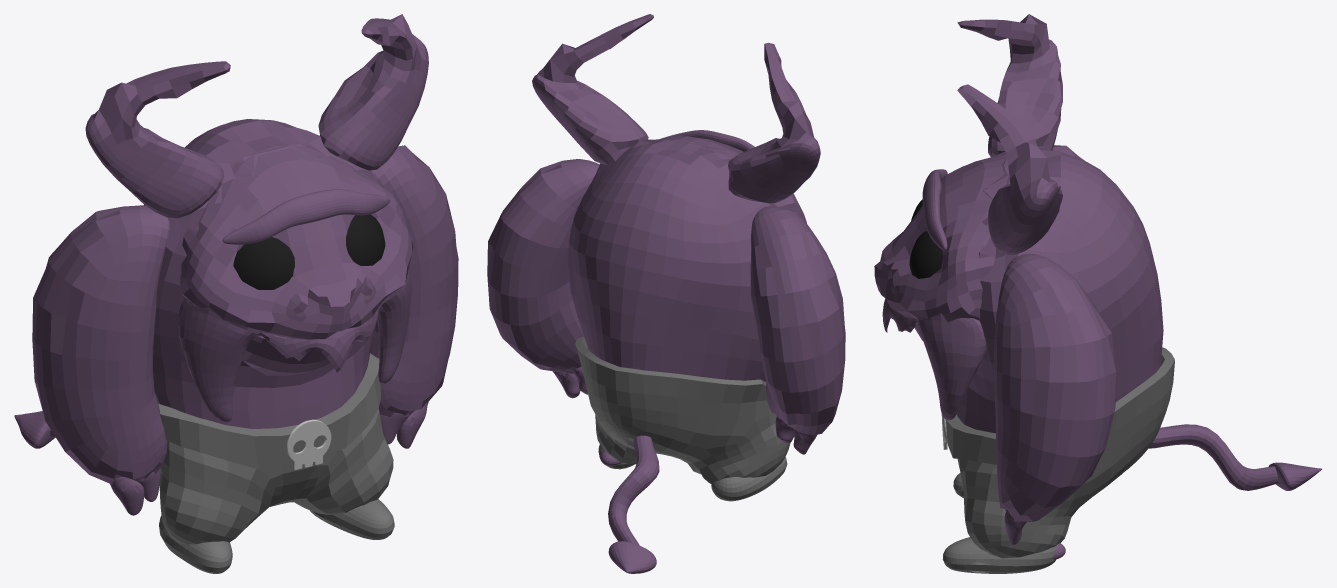
Rendered from Eduardo.gltf.
3 views of the same model, side by side, from view 1: azimuth 30°, elevation 25°; view 2: azimuth 150°, elevation 25°; view 3: azimuth 270°, elevation 25° (orthographic). The views are drawn at different scales.
Visible parts, largest first — view 1: pasted__Eduardo1 group Eduardo:polySurface7, Eduardo:Eduardo:polySurface3 pasted__Eduardo1 group, pasted__Eduardo1 group Eduardo:polySurface1, pasted__Eduardo1 group Eduardo:Calavera; view 2: pasted__Eduardo1 group Eduardo:polySurface7, Eduardo:Eduardo:polySurface3 pasted__Eduardo1 group; view 3: pasted__Eduardo1 group Eduardo:polySurface7, Eduardo:Eduardo:polySurface3 pasted__Eduardo1 group, pasted__Eduardo1 group Eduardo:polySurface1.
Part boxes in pixels (box(x1,y1,x2,y2)): pasted__Eduardo1 group Eduardo:polySurface7: box(14, 14, 458, 515); Eduardo:Eduardo:polySurface3 pasted__Eduardo1 group: box(158, 353, 394, 573); pasted__Eduardo1 group Eduardo:polySurface1: box(233, 214, 385, 289); pasted__Eduardo1 group Eduardo:Calavera: box(286, 419, 331, 469); pasted__Eduardo1 group Eduardo:polySurface7: box(487, 14, 845, 573); Eduardo:Eduardo:polySurface3 pasted__Eduardo1 group: box(575, 336, 790, 501); pasted__Eduardo1 group Eduardo:polySurface7: box(874, 14, 1321, 559); Eduardo:Eduardo:polySurface3 pasted__Eduardo1 group: box(942, 347, 1174, 573); pasted__Eduardo1 group Eduardo:polySurface1: box(909, 199, 943, 278).
Bounding box in the file's own units: 181 × 217 × 183.
